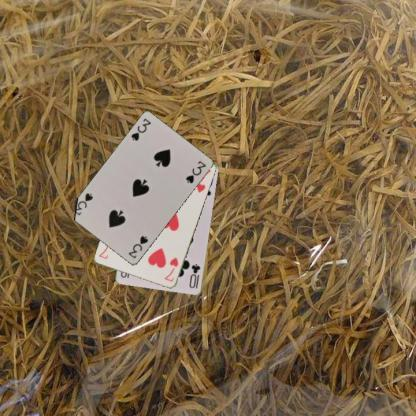10c: (186, 262, 202, 290)
3s: (128, 116, 152, 142), (126, 233, 149, 260)
7h: (162, 254, 180, 284)
